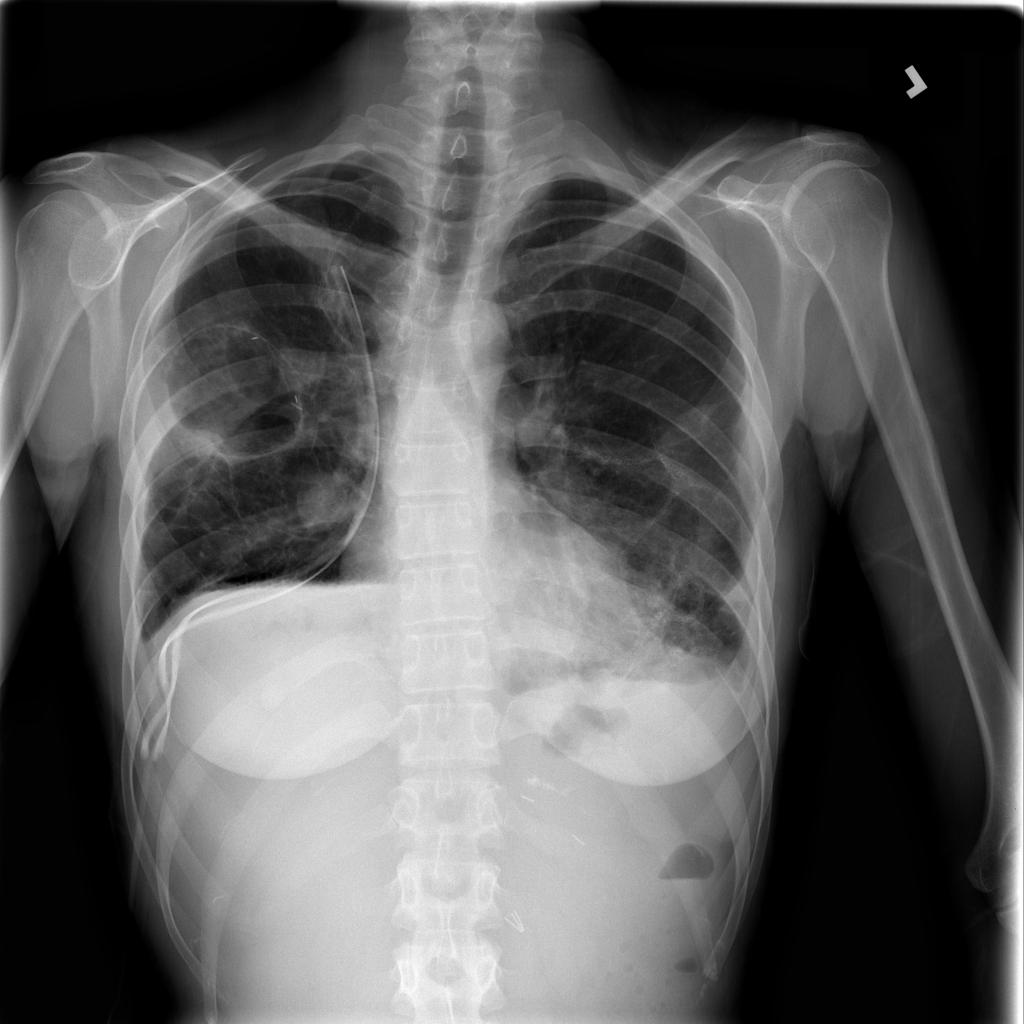nodule: (286, 461, 363, 538)
